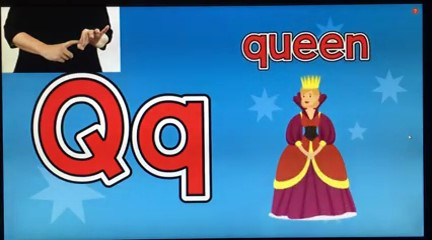Q: (41, 20, 113, 67)
